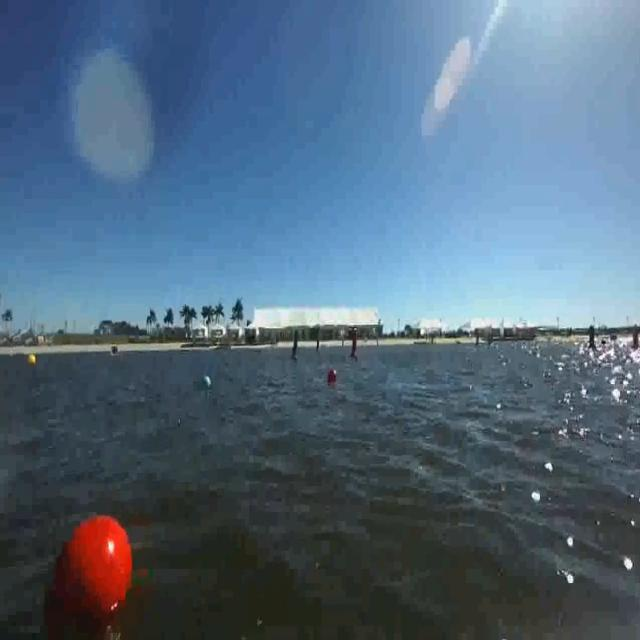green-buoy: (198, 376, 211, 389)
green-column-buoy: (289, 329, 301, 363)
red-buoy: (43, 505, 144, 631), (328, 370, 337, 384)
red-column-buoy: (349, 332, 360, 360)
yellow-buoy: (29, 352, 38, 368)
